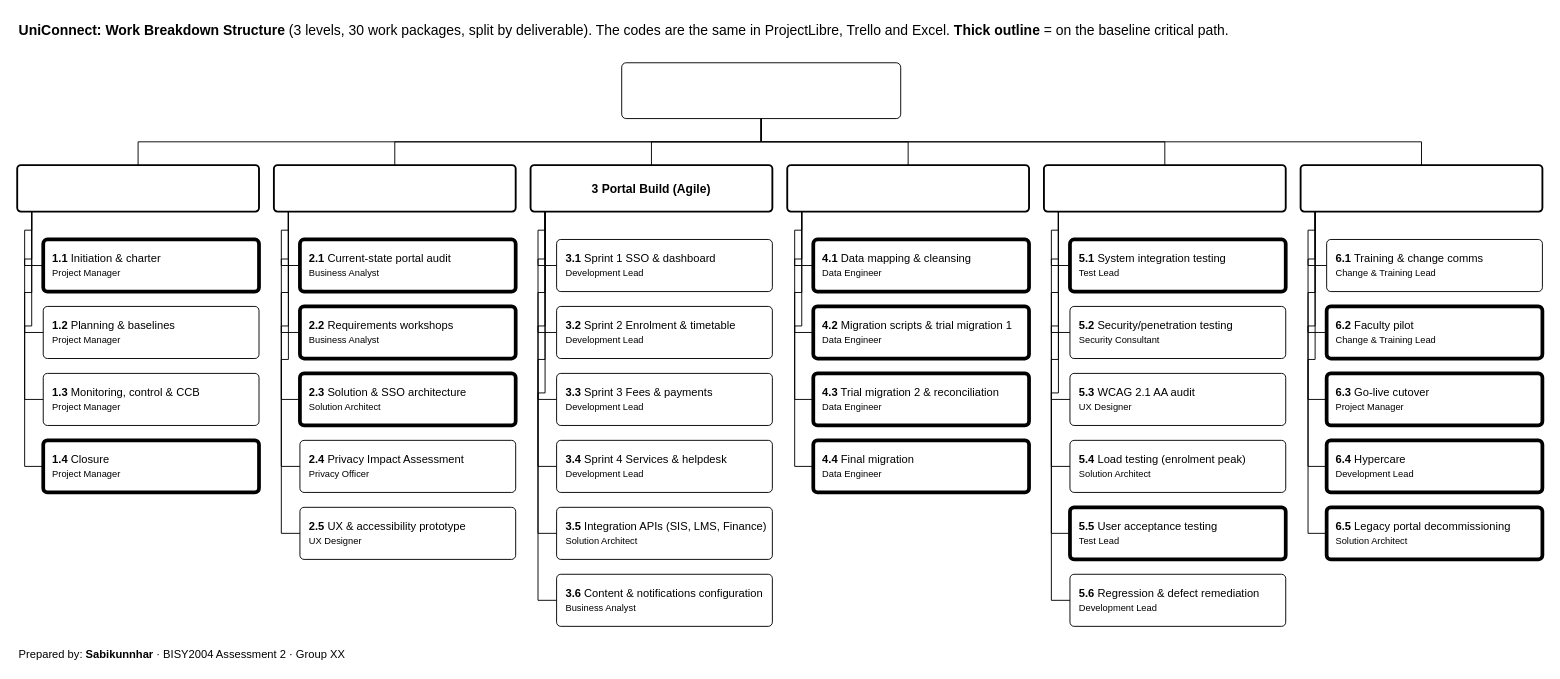
Image size: 1560x679. Some labels were removed from this diagram. The shapes that lost their labels are listed below. From the top down, each one's centre as x and y in pixels, then its label:
At point 761,90: "0 UniConnect Student Portal Consolidation".
At point 137,188: "1 Project Management".
At point 394,188: "2 Requirements & Design".
At point 908,188: "4 Data Migration".
At point 1164,188: "5 Testing & Quality".
At point 1421,188: "6 Deployment & Transition".
